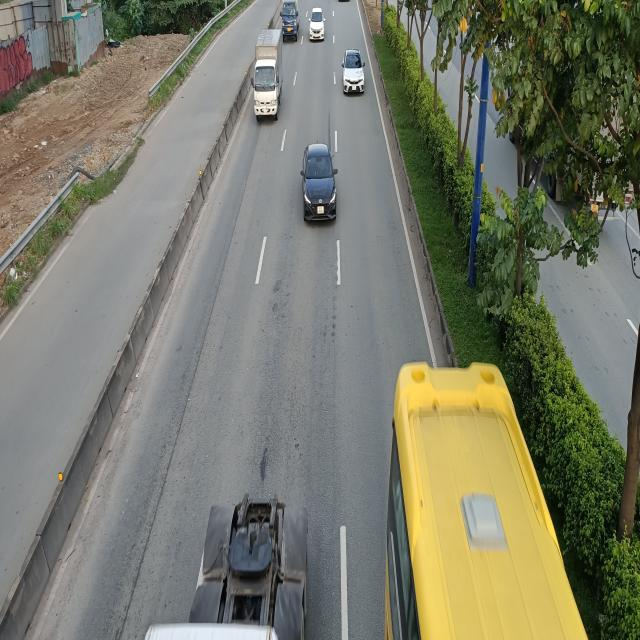car: (304, 146, 341, 226), (342, 49, 367, 94), (308, 7, 326, 41)
coach: (385, 357, 587, 640)
container: (146, 492, 306, 640)
truck: (251, 31, 283, 123), (281, 1, 300, 42)
